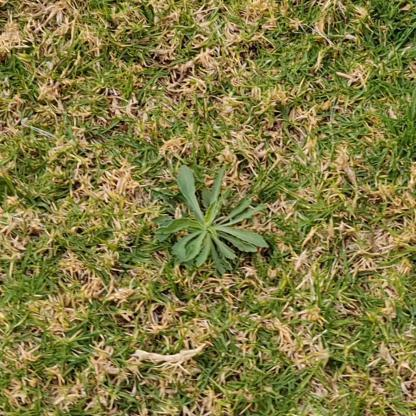Weeds: (151, 164, 269, 277)
